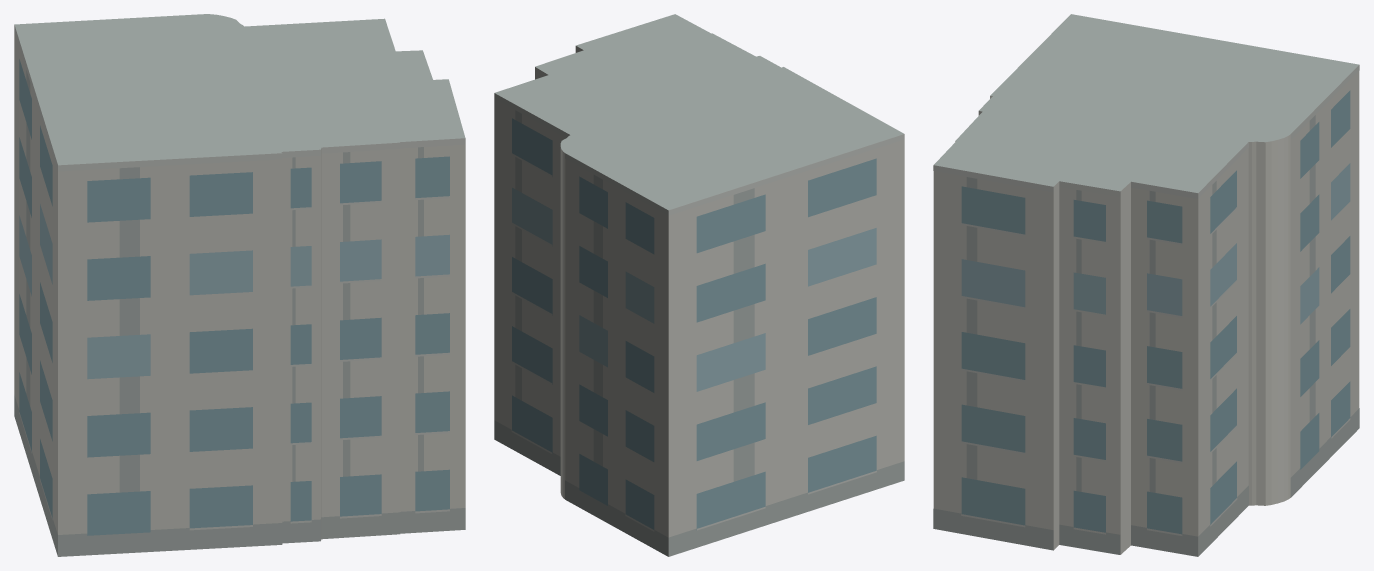
The model's file is survey-upis-32630070.glb.
3 renders of one model, left to right at view 1: azimuth 30°, elevation 25°; view 2: azimuth 150°, elevation 25°; view 3: azimuth 270°, elevation 25°, orthographic. The views are drawn at different scales.
Parts seen in each view (by area): view 1: survey-upis-32630070.tmp; view 2: survey-upis-32630070.tmp; view 3: survey-upis-32630070.tmp.
Boxes of the visible parts, x1,y1,x2,y2 form: survey-upis-32630070.tmp: (14, 14, 465, 556); survey-upis-32630070.tmp: (494, 14, 904, 556); survey-upis-32630070.tmp: (933, 14, 1359, 556).
Size of the model in its own units: 16.13 by 15.25 by 16.2.
